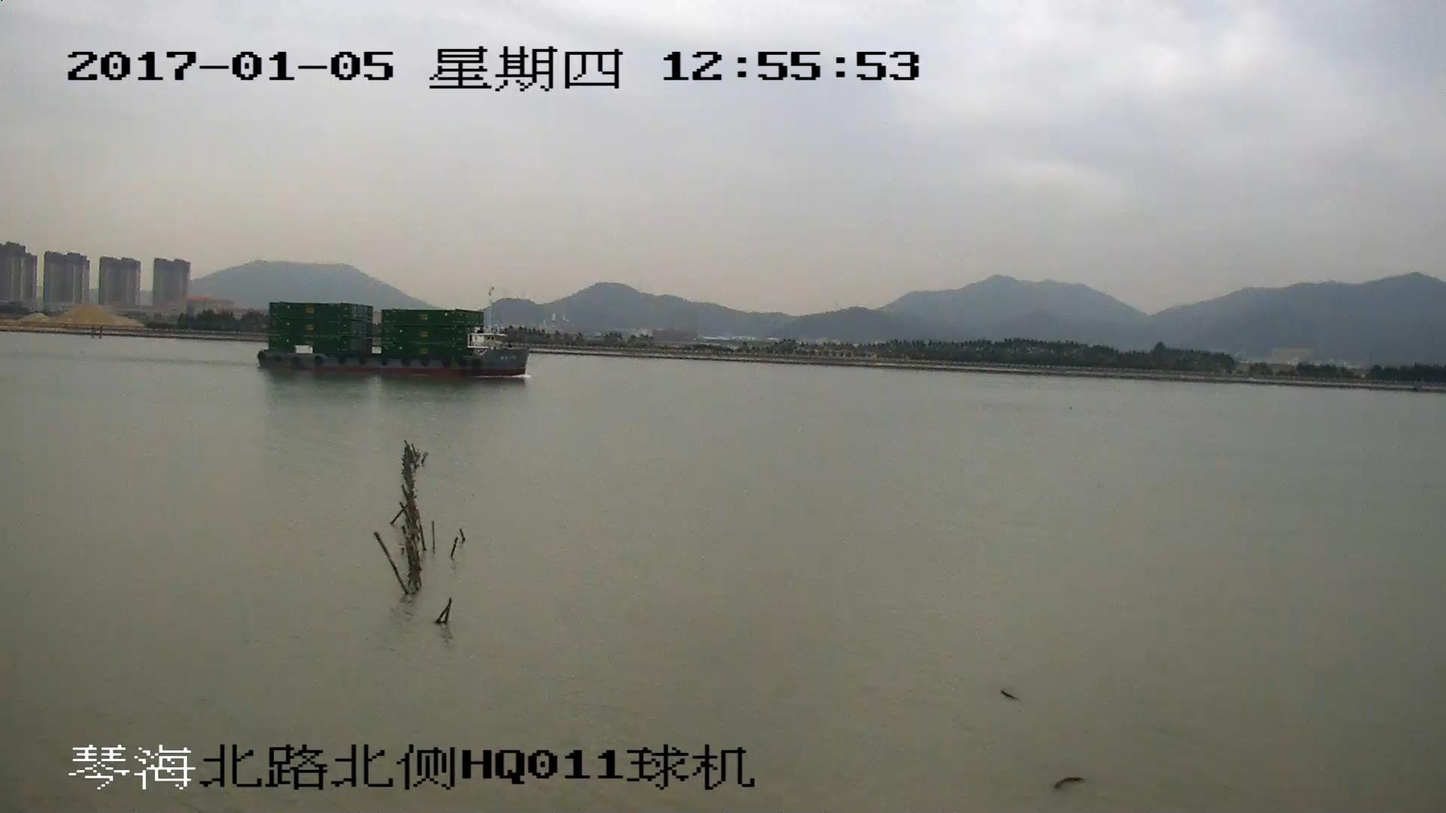container ship: (256, 302, 529, 378)
